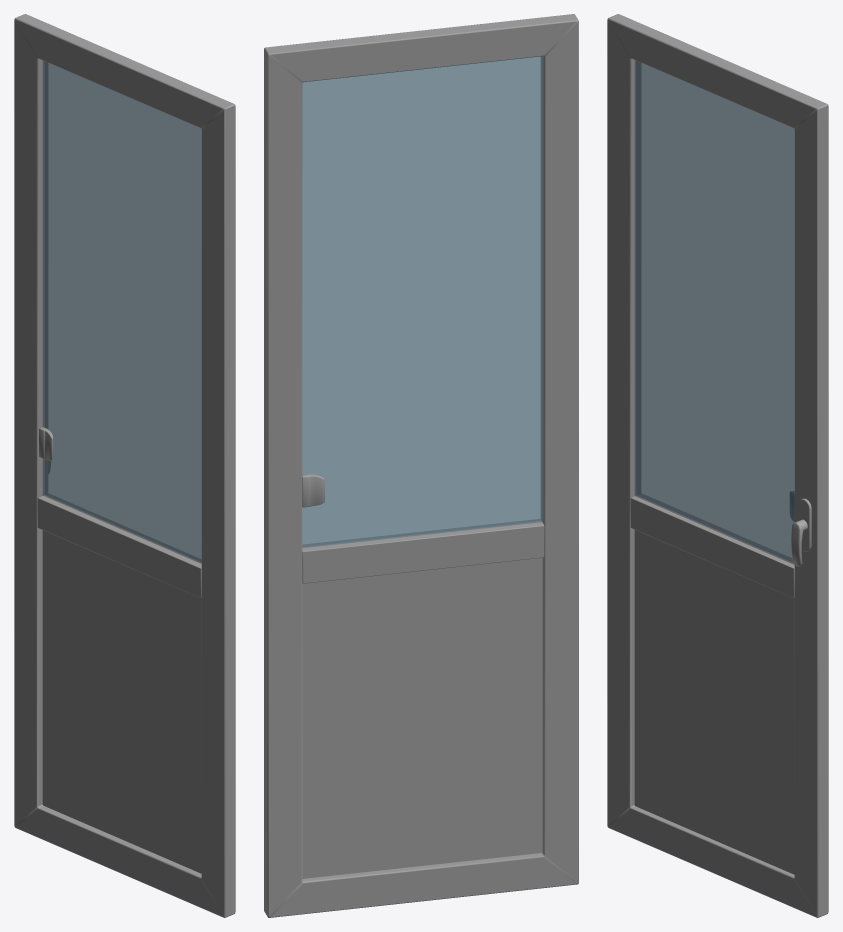
The picture shows the model from 3 angles, left to right: view 1: azimuth 90°, elevation 25°; view 2: azimuth 150°, elevation 25°; view 3: azimuth 270°, elevation 25°; orthographic projection. The views are drawn at different scales.
Parts seen in each view (by area): view 1: Part2 (×3); view 2: Part2 (×3); view 3: Part2 (×3).
Boxes of the visible parts, bbox=[...] form: Part2 (×3): bbox=[14, 14, 235, 917]; Part2 (×3): bbox=[264, 14, 578, 917]; Part2 (×3): bbox=[607, 14, 828, 917].
Size of the model in its own units: 0.5463 by 2.14 by 0.529.
